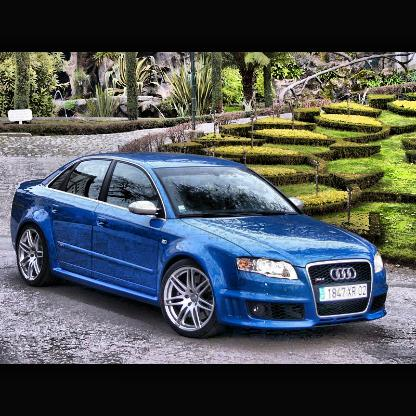Audi S4 Sedan 2007: (12, 152, 391, 341)
